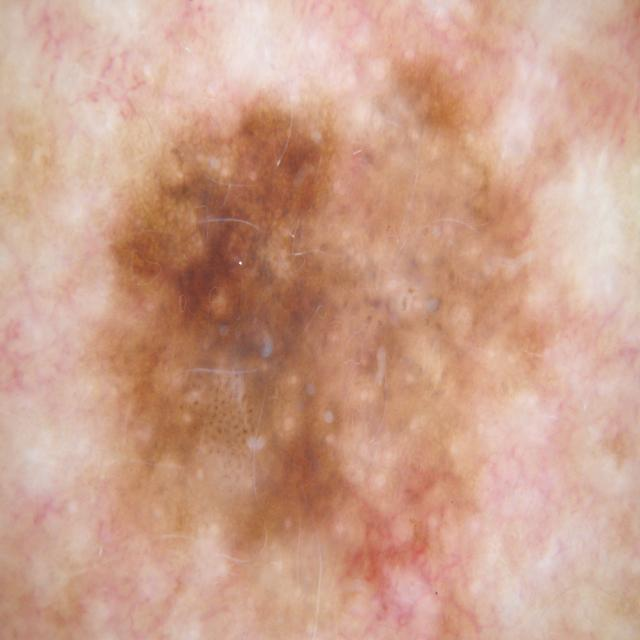Skin-Cancer Nevus: (18, 9, 587, 624)
